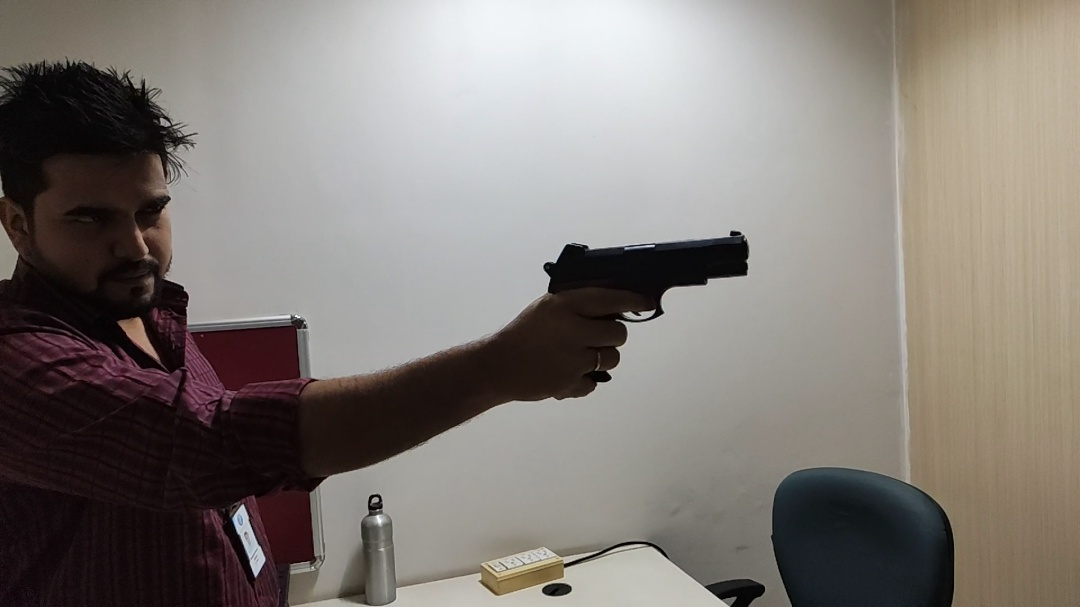gun: (540, 231, 753, 386)
